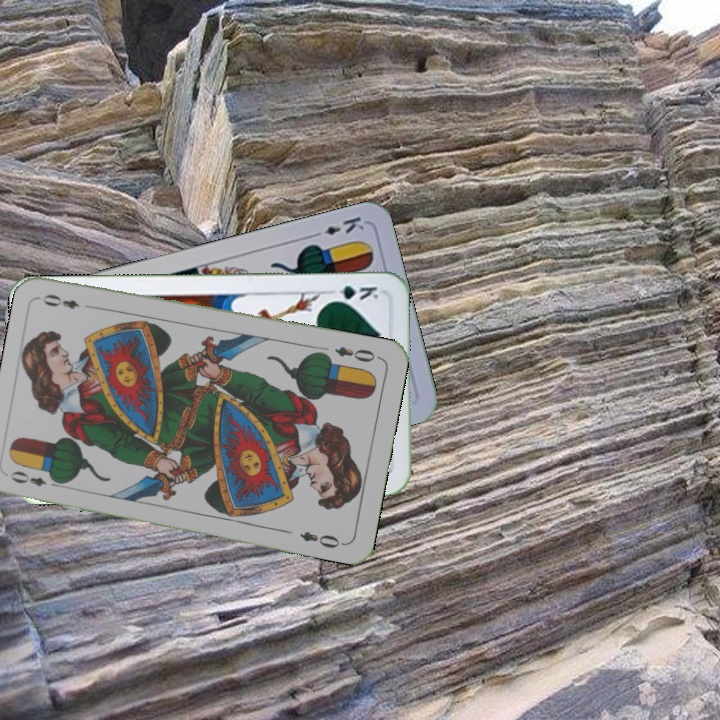EK: (307, 212, 367, 241)
EO: (6, 467, 64, 490), (331, 342, 383, 365)
GK: (324, 282, 381, 304)
